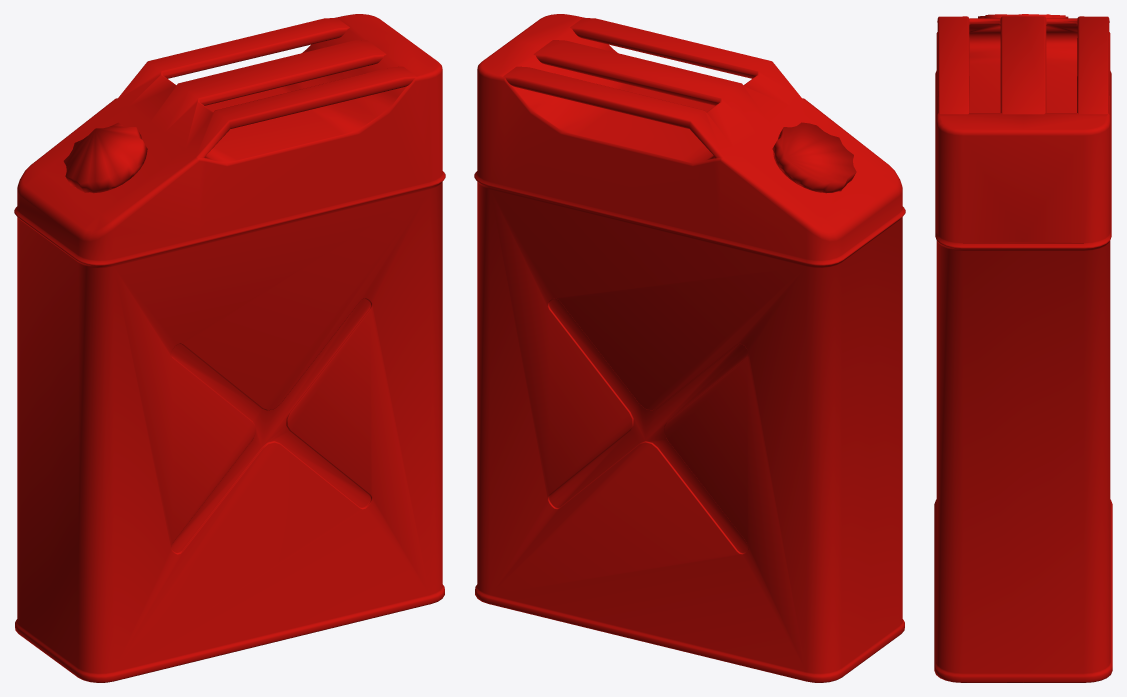
The model's file is jerrycan.obj.
3 views of the same model, side by side, from view 1: azimuth 30°, elevation 25°; view 2: azimuth 150°, elevation 25°; view 3: azimuth 270°, elevation 25° (orthographic). The views are drawn at different scales.
Parts seen in each view (by area): view 1: Jerrycan_Cube.013; view 2: Jerrycan_Cube.013; view 3: Jerrycan_Cube.013.
Boxes of the visible parts, x1,y1,x2,y2 form: Jerrycan_Cube.013: (14, 14, 445, 682); Jerrycan_Cube.013: (474, 14, 905, 682); Jerrycan_Cube.013: (934, 14, 1112, 682).
Size of the model in its own units: 0.2457 by 0.3408 by 0.0995.
